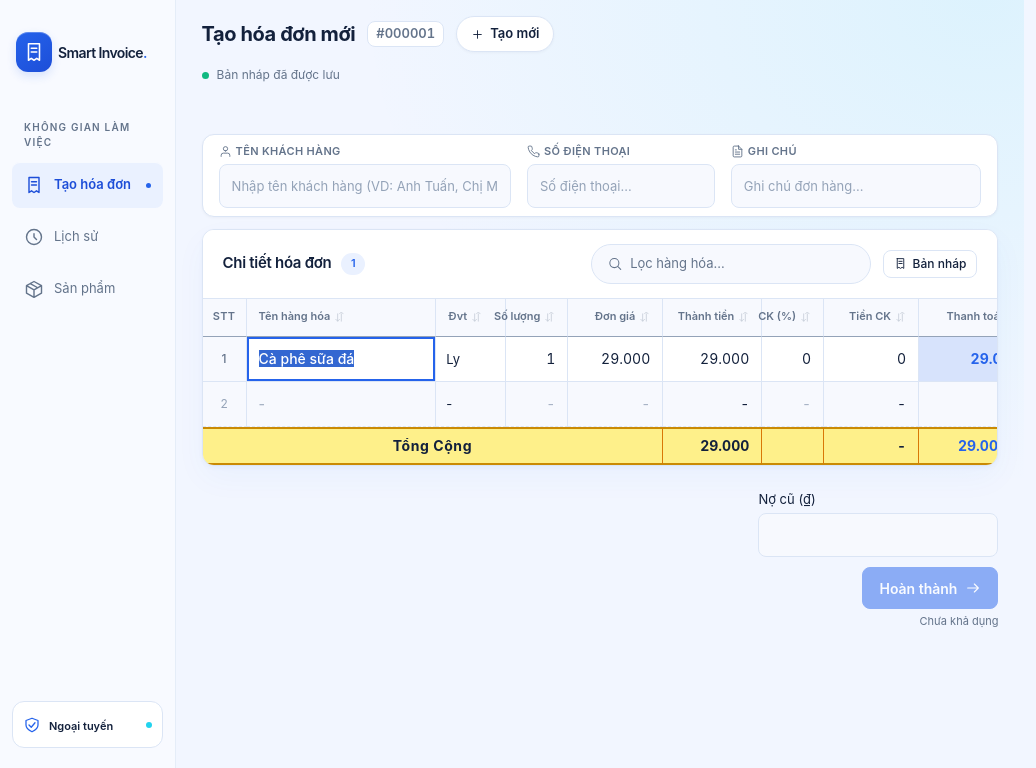
Test: Invoice spreadsheet › rejects invalid quantity 0 without saving
The width and height of the screenshot is (1036, 768).
expect the text "#000001" is shown: met, box [367, 21, 444, 47]
Replace the text in the number field named "Số lượng dòng 1" with "0" at (537, 358), box [506, 336, 567, 380]
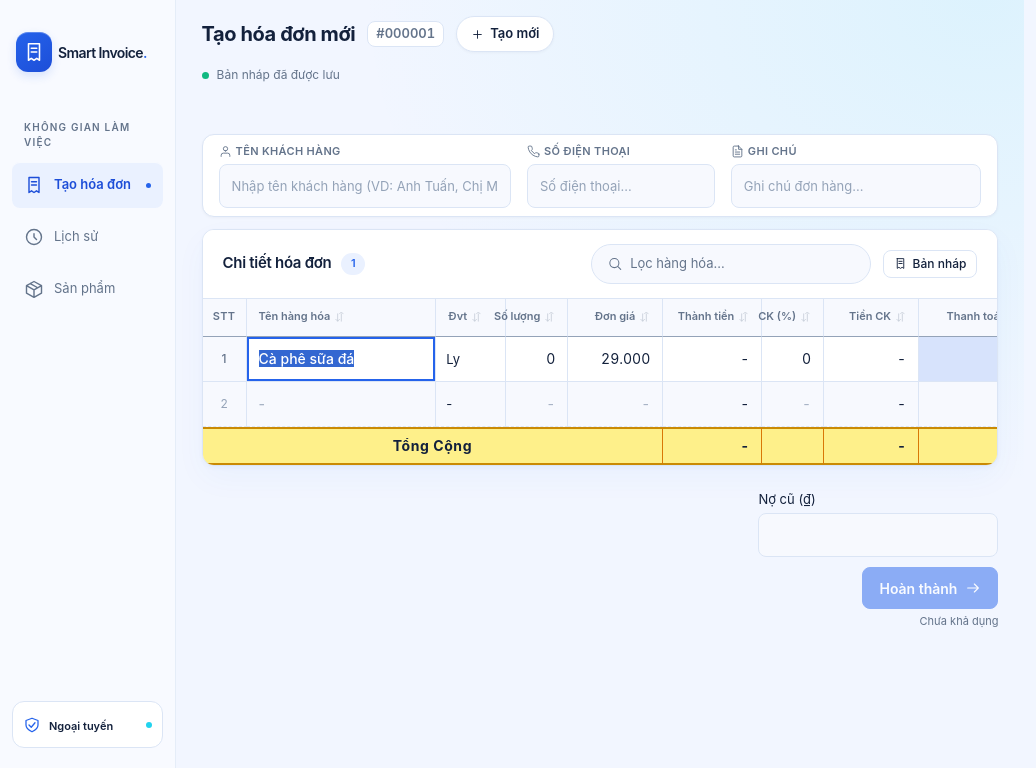
Leave the number field named "Số lượng dòng 1", box [506, 336, 567, 380]
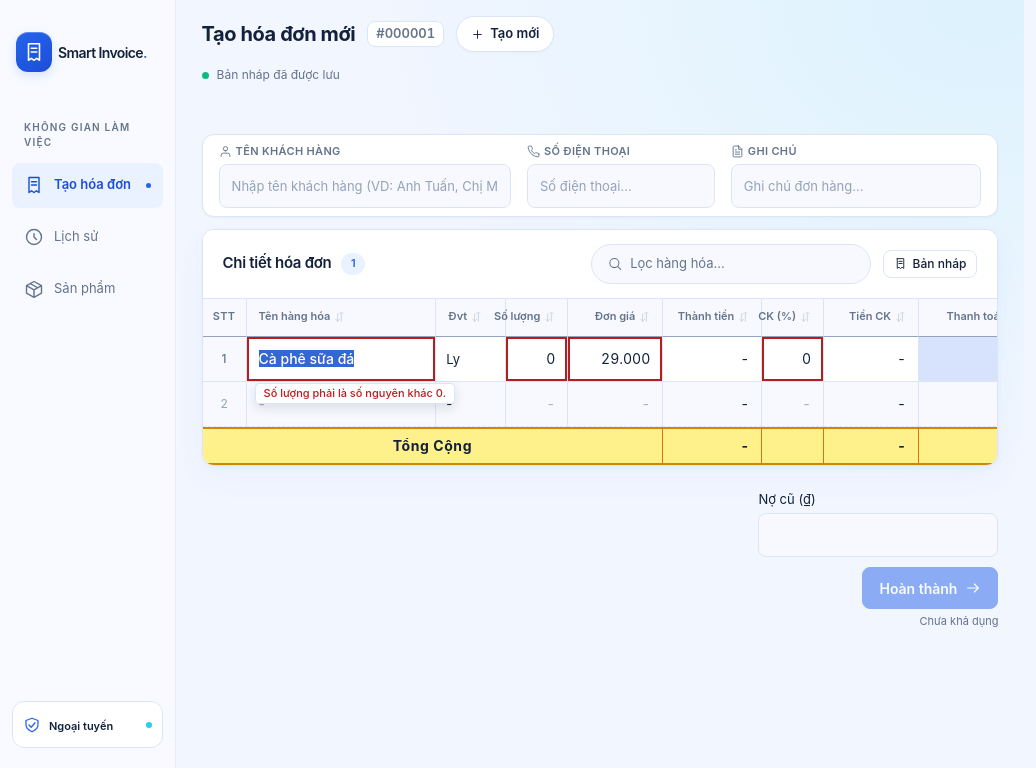
expect the message "Số lượng phải là số nguyên khác 0." is shown: met, box [255, 382, 455, 404]
